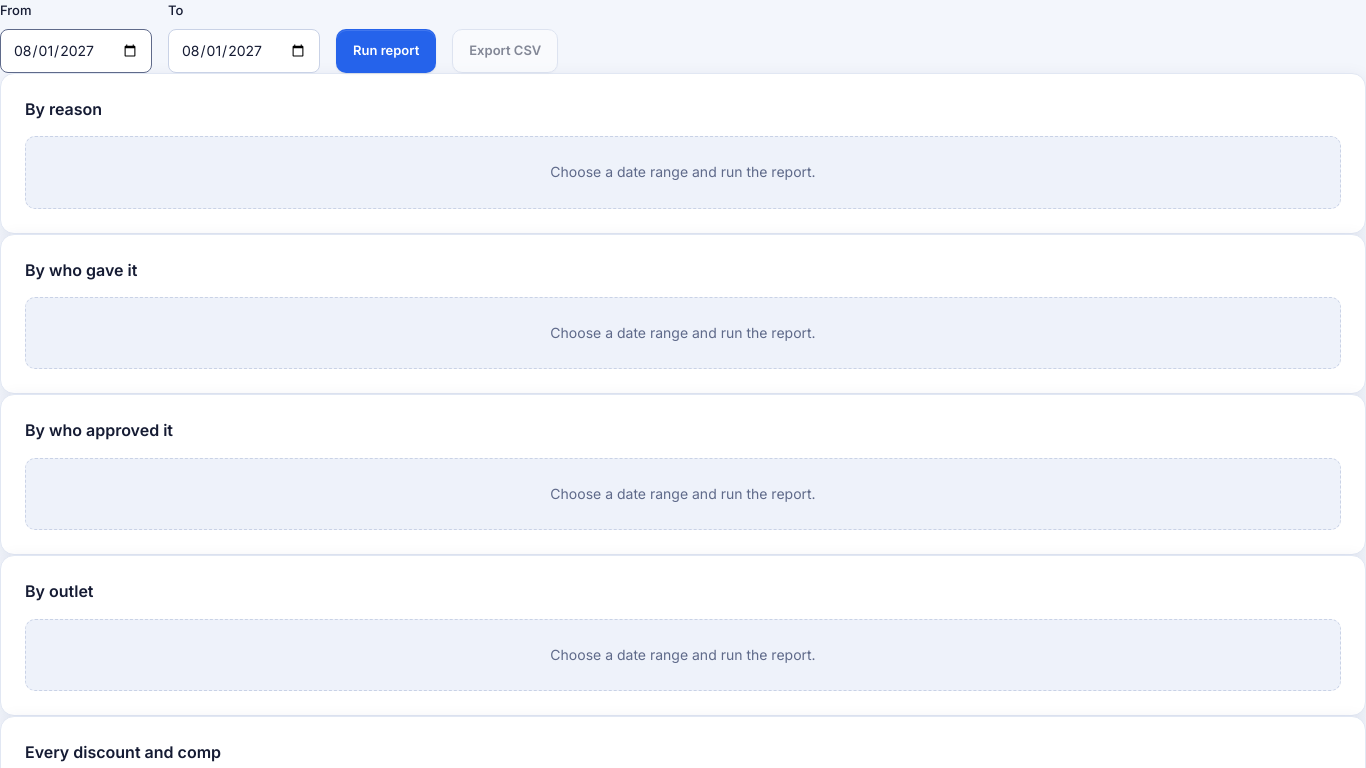
Test case: <DiscountsTab> › says so when nothing was given
Step 1. Click the button "Run report" → [386, 51], box [336,29,436,73]
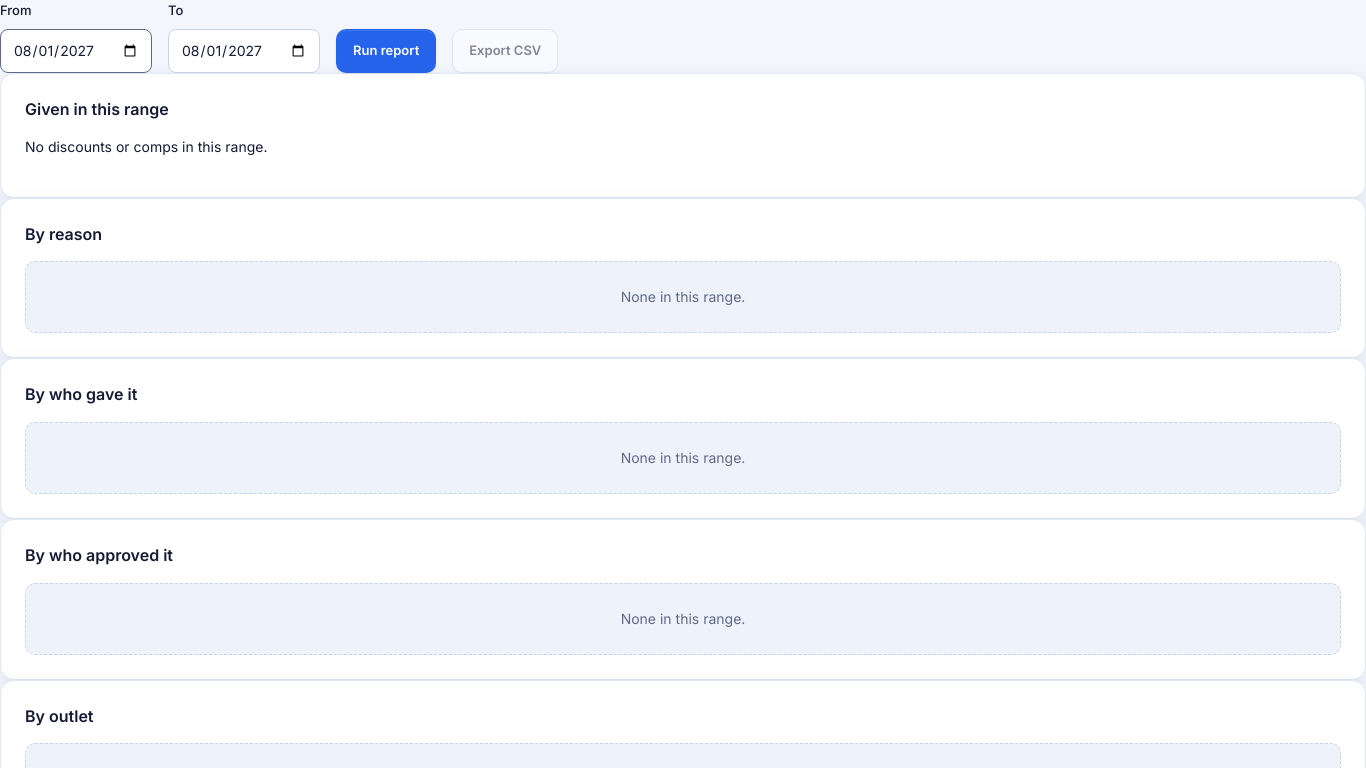
Expected: the button "Export CSV" is disabled, [452,29,558,73]
Now the text "No discounts or comps in this range." is shown, box [25,138,268,155]
